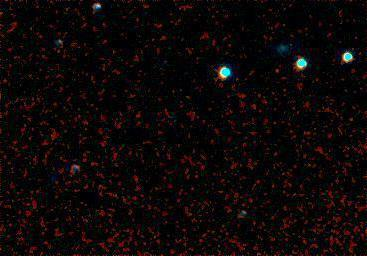star: (262, 53, 292, 83)
